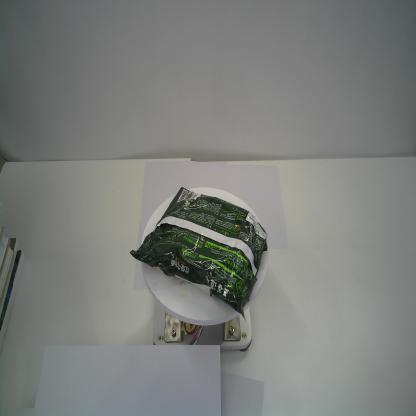Instant Noodles: (128, 184, 270, 322)
